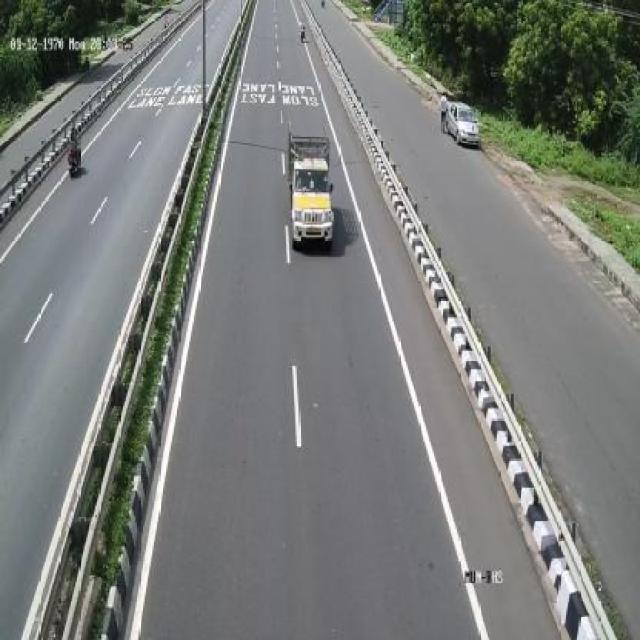car: (434, 94, 491, 158)
